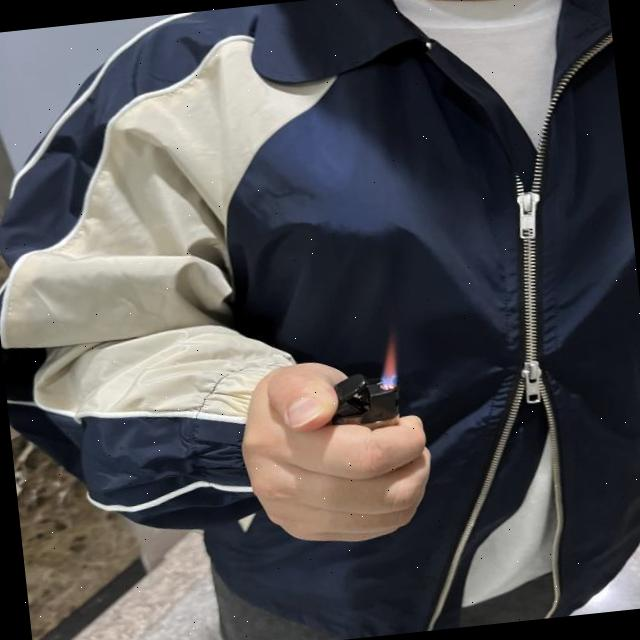fire: (374, 341, 401, 382)
